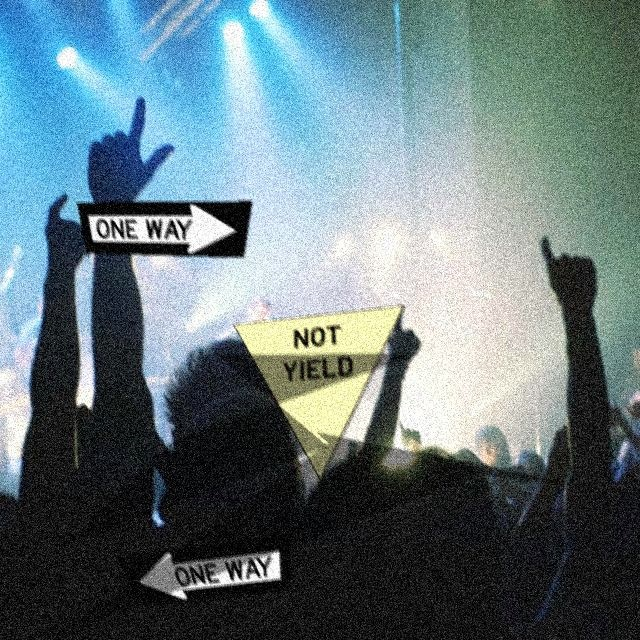NOT_YIELD: (234, 307, 407, 483)
ONE_WAY_ left: (117, 536, 293, 609)
ONE_WAY_ right: (78, 203, 254, 260)
